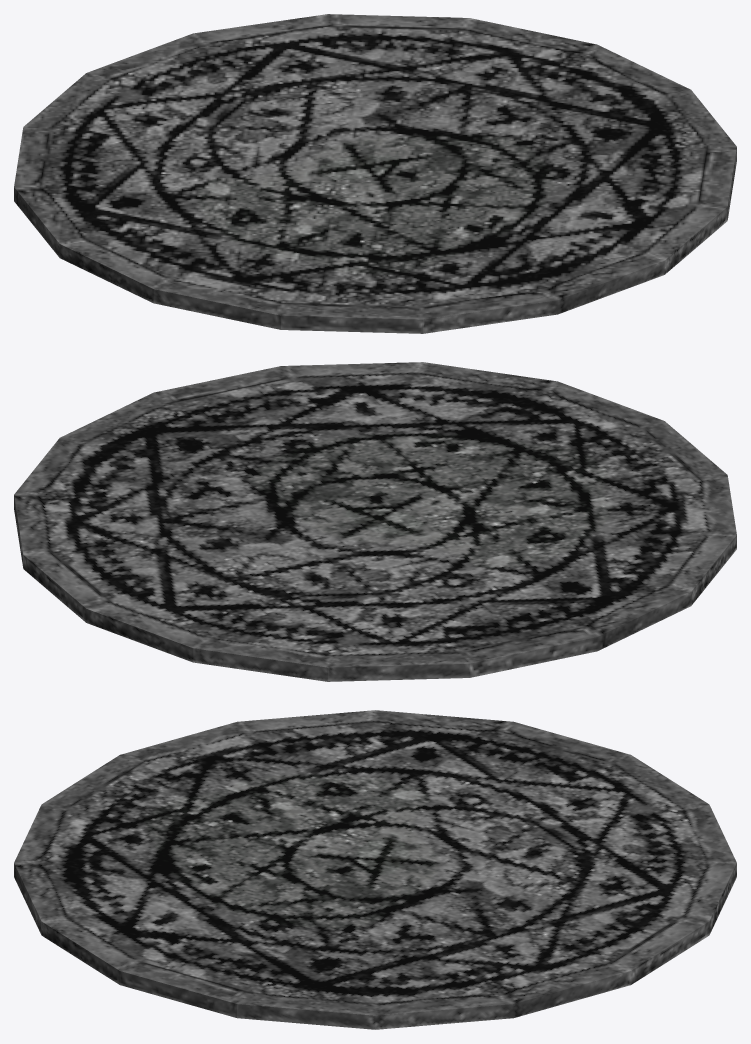
The model's file is waypoint.fbx.
The picture shows the model from 3 angles, top to bottom: view 1: azimuth 30°, elevation 25°; view 2: azimuth 150°, elevation 25°; view 3: azimuth 270°, elevation 25°; orthographic projection.
Parts seen in each view (by area): view 1: Waypoint; view 2: Waypoint; view 3: Waypoint.
Boxes of the visible parts, x1,y1,x2,y2 form: Waypoint: (14, 14, 736, 333); Waypoint: (14, 362, 736, 681); Waypoint: (14, 710, 736, 1029).
Size of the model in its own units: 3.48 by 0.075 by 3.48.
